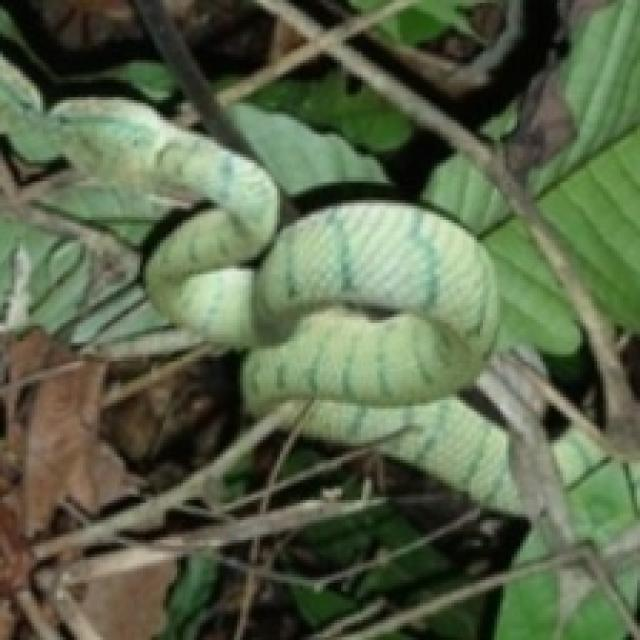north ph temple pitviper: (49, 97, 494, 409)
